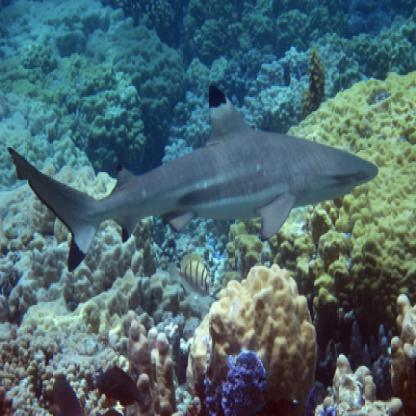Shark -Selachimorpha-: (7, 86, 381, 272)
